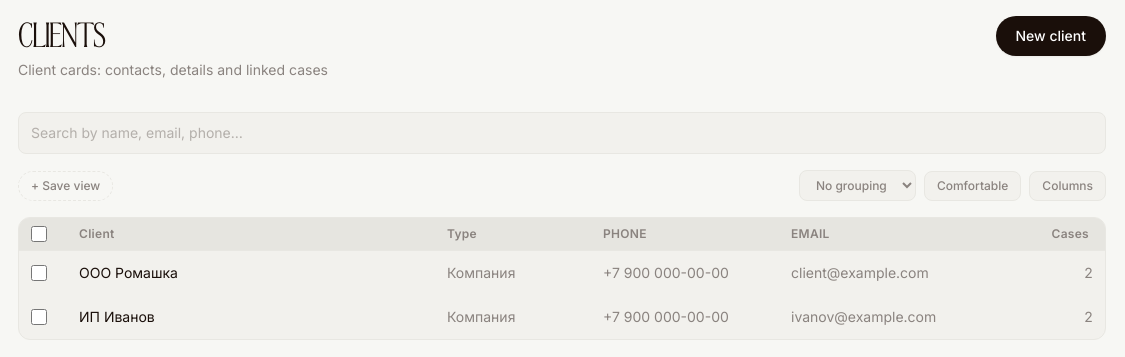
Test case: ClientsPage › filters the current page client-side by name/email/phone/inn
Expected: the link "ООО Ромашка" is shown, [79,264,178,281]
Type "Иванов" into the search field with placeholder "Search by name, email, phone…" at (562, 133), box [18,112,1106,154]
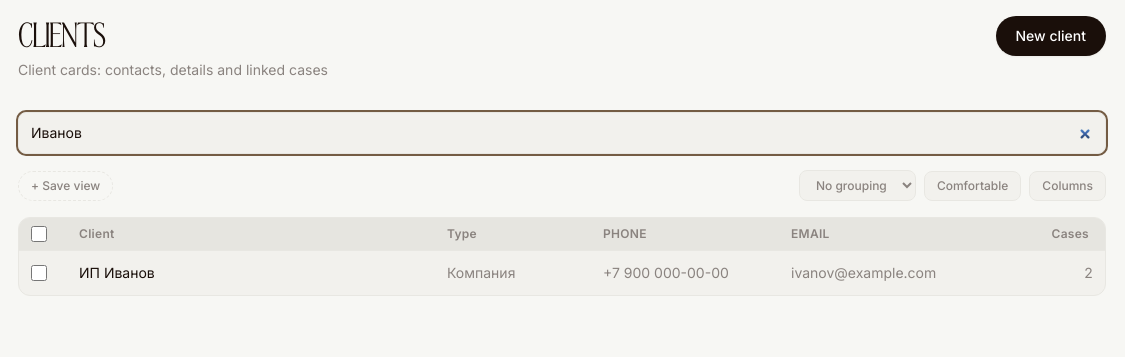
Expected: the link "ИП Иванов" is shown, [79,264,155,281]
Result: the link "ООО Ромашка" is gone
